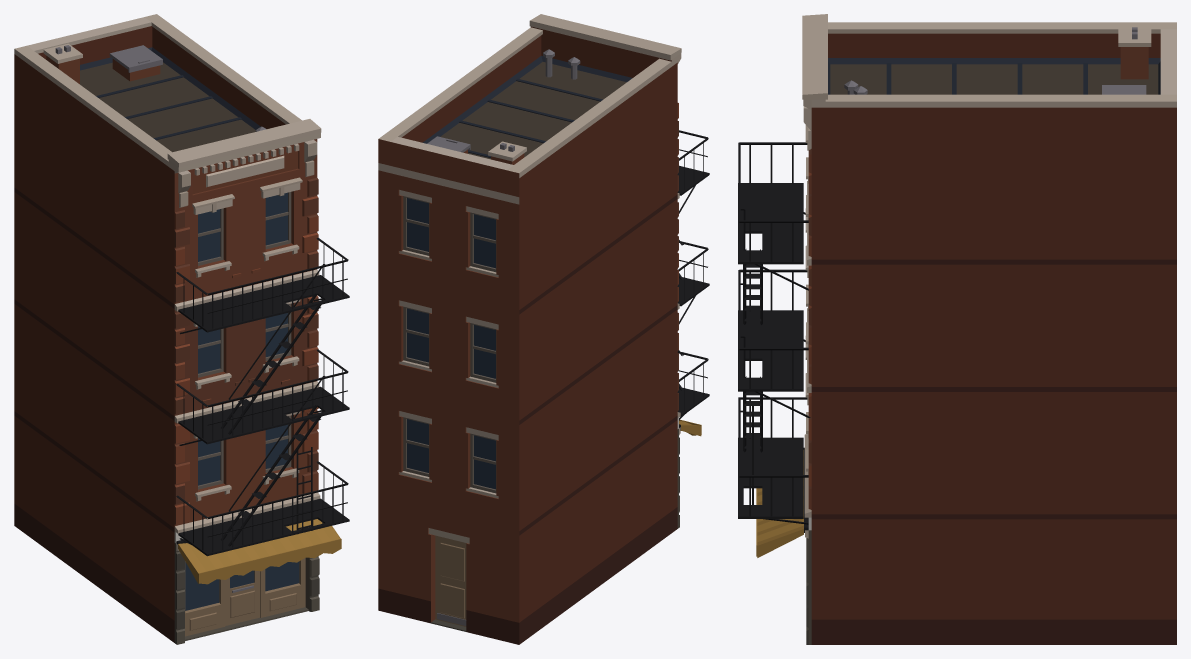
File: narrow-walk-up-41f10c.glb
3 views of the same model, side by side, from view 1: azimuth 30°, elevation 25°; view 2: azimuth 150°, elevation 25°; view 3: azimuth 270°, elevation 25° (orthographic). The views are drawn at different scales.
Parts seen in each view (by area): view 1: walk-up, fire-escape-iron, awning-canvas, roof-hatch-lid, drop-ladder-iron; view 2: walk-up, fire-escape-iron; view 3: walk-up, fire-escape-iron, awning-canvas.
Boxes of the visible parts, x1=… form: walk-up: x1=14, y1=14, x2=321, y2=644; fire-escape-iron: x1=176, y1=237, x2=349, y2=556; awning-canvas: x1=176, y1=519, x2=341, y2=584; roof-hatch-lid: x1=109, y1=45, x2=162, y2=72; drop-ladder-iron: x1=296, y1=447, x2=312, y2=530; walk-up: x1=378, y1=14, x2=681, y2=644; fire-escape-iron: x1=677, y1=130, x2=709, y2=419; walk-up: x1=802, y1=14, x2=1176, y2=644; fire-escape-iron: x1=738, y1=142, x2=810, y2=524; awning-canvas: x1=756, y1=449, x2=808, y2=557.
Size of the model in its own units: 4 by 13 by 9.37.
